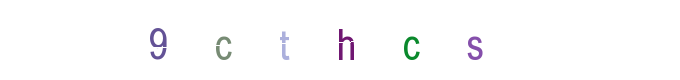9: (217, 0, 297, 80)
C: (248, 0, 328, 80), (305, 0, 385, 80)
H: (300, 0, 380, 80)
S: (370, 0, 450, 80)
T: (261, 0, 341, 80)
